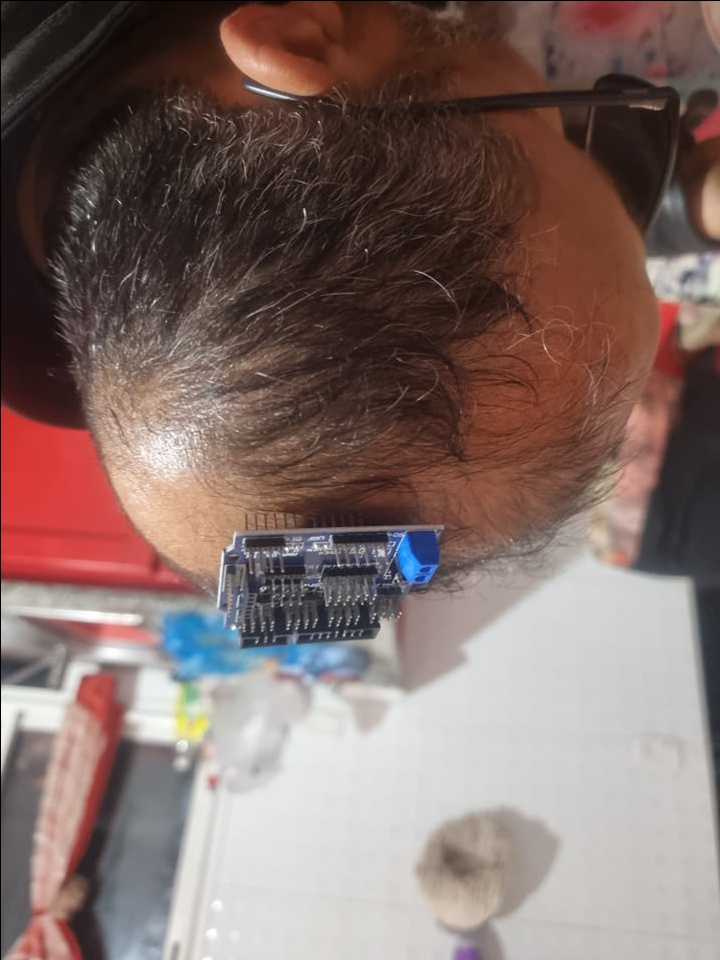5V EXPANSION: (217, 505, 446, 647)
